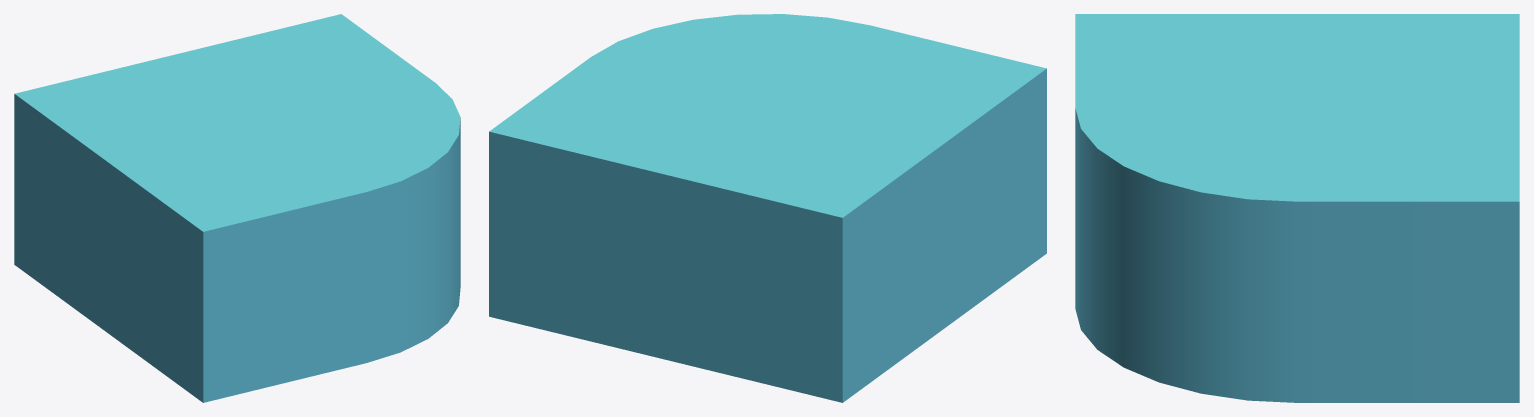
File: NF_Floor_00_Blue_09.fbx
3 views of the same model, side by side, from view 1: azimuth 30°, elevation 25°; view 2: azimuth 150°, elevation 25°; view 3: azimuth 270°, elevation 25° (orthographic). The views are drawn at different scales.
Visible parts, largest first — view 1: NF_Floor_00_Blue_09; view 2: NF_Floor_00_Blue_09; view 3: NF_Floor_00_Blue_09.
Boxes of the visible parts, x1,y1,x2,y2 form: NF_Floor_00_Blue_09: (14, 14, 460, 402); NF_Floor_00_Blue_09: (489, 14, 1046, 402); NF_Floor_00_Blue_09: (1075, 14, 1519, 402).
Size of the model in its own units: 2 by 1 by 2.
1 material, 1 textured.
